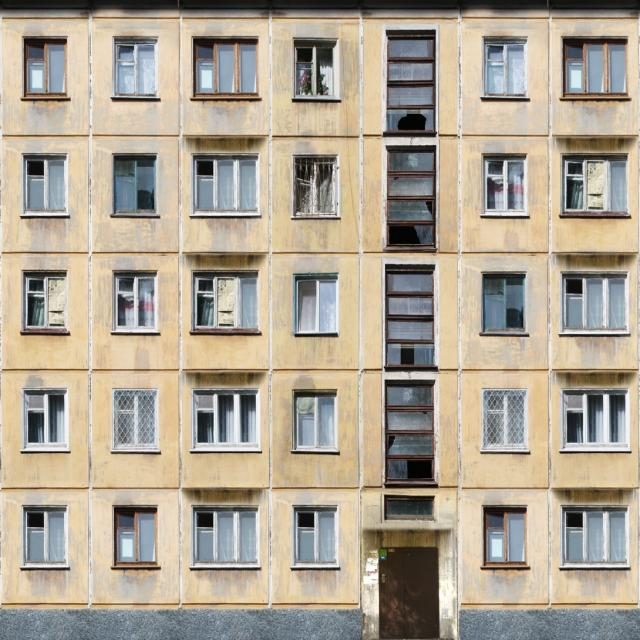Window: (385, 382, 430, 479), (388, 271, 433, 360), (389, 36, 434, 124), (388, 150, 429, 244), (564, 508, 624, 562), (564, 392, 626, 444), (564, 280, 622, 332), (195, 512, 255, 562), (193, 394, 256, 441), (196, 41, 256, 89), (195, 280, 255, 327), (196, 161, 254, 209), (569, 46, 622, 94), (114, 277, 156, 332), (296, 394, 336, 451), (484, 276, 524, 332), (486, 156, 526, 211), (483, 510, 523, 563), (116, 509, 154, 564), (24, 277, 64, 329), (294, 44, 332, 98), (296, 158, 332, 214), (117, 161, 155, 214), (114, 394, 154, 444), (26, 509, 64, 561), (115, 46, 154, 96), (26, 393, 64, 443), (27, 165, 66, 212), (297, 282, 333, 332), (295, 512, 333, 559), (29, 41, 64, 92), (486, 394, 520, 444), (485, 45, 521, 90), (386, 499, 434, 519)
